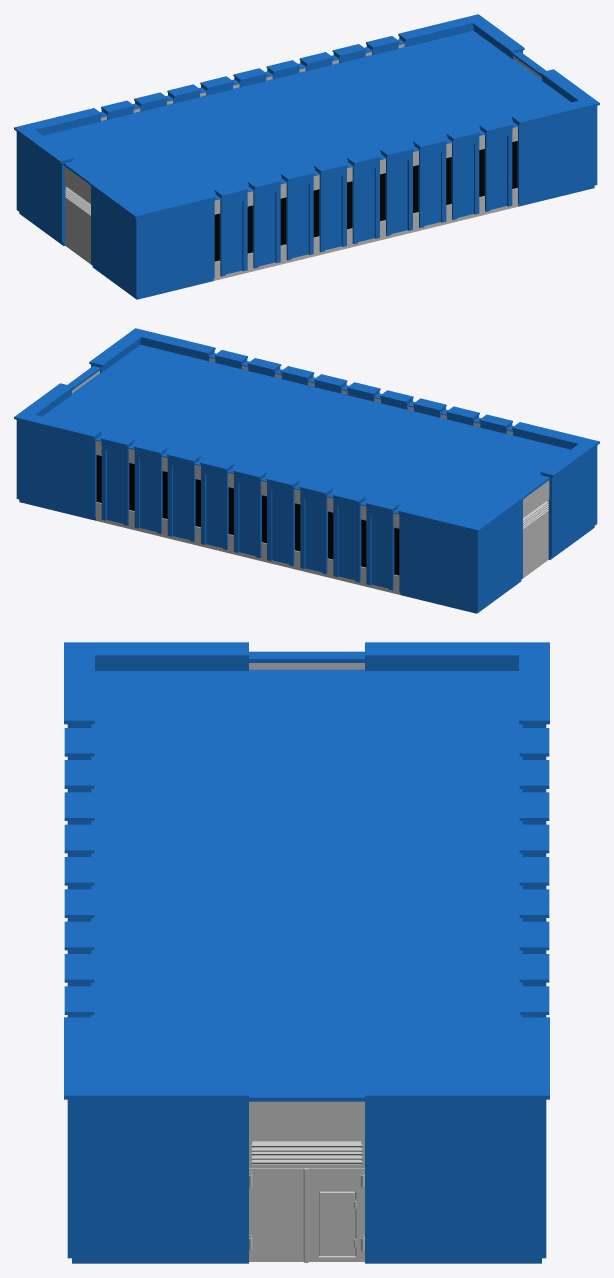
The model's file is SM_transformer_2.fbx.
3 views of the same model, one above another, from view 1: azimuth 30°, elevation 25°; view 2: azimuth 150°, elevation 25°; view 3: azimuth 270°, elevation 25° (orthographic). The views are drawn at different scales.
Parts seen in each view (by area): view 1: Cylinder_11; view 2: Cylinder_11; view 3: Cylinder_11.
Boxes of the visible parts, <box> form: Cylinder_11: <box>14,14,599,299</box>; Cylinder_11: <box>14,328,599,613</box>; Cylinder_11: <box>64,642,549,1263</box>.
Bounding box in the file's own units: 2902 × 512 × 1315.
